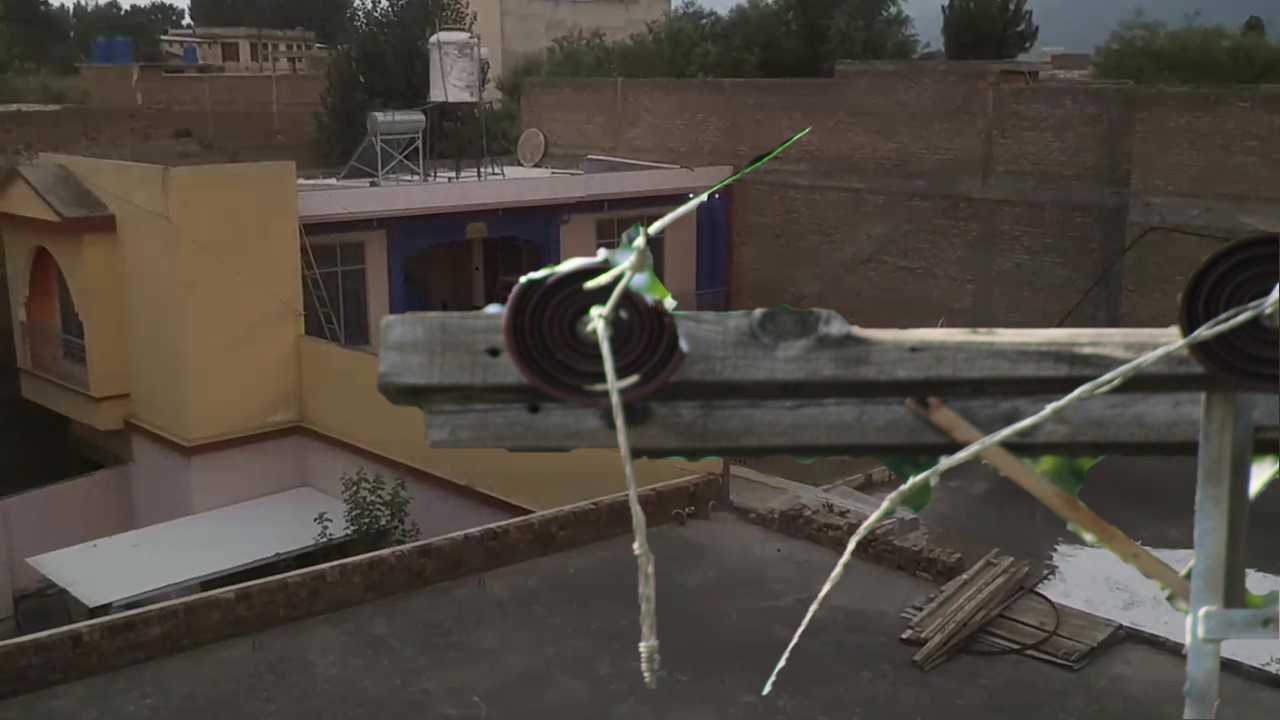defect_disc: (499, 246, 696, 402)
